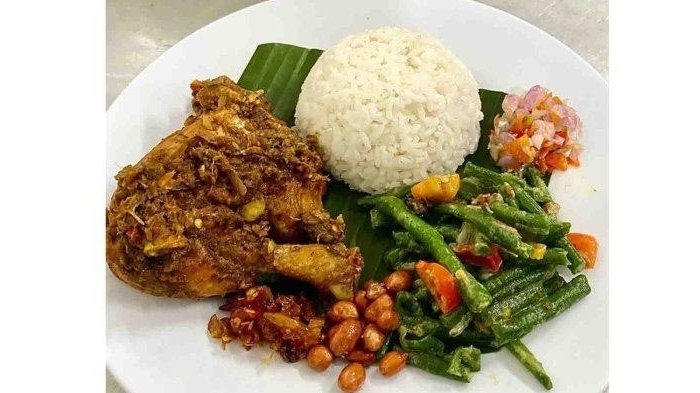ayam_betutu: (107, 76, 363, 300)
